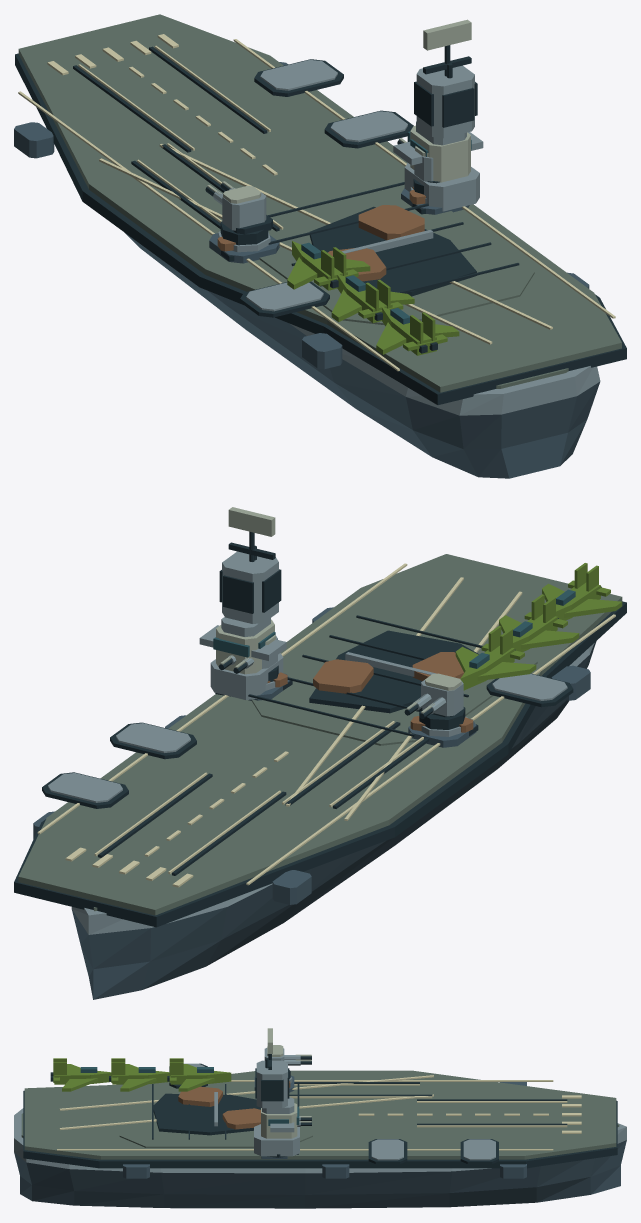
File: historic-gerald-ford.glb
3 renders of one model, top to bottom at view 1: azimuth 30°, elevation 25°; view 2: azimuth 150°, elevation 25°; view 3: azimuth 270°, elevation 25°, orthographic. The views are drawn at different scales.
Visible parts, largest first — view 1: historic-gerald-ford-historic-gerald-ford-geometry, historic-gerald-ford-part_flight-deck.023-geometry, historic-gerald-ford-part_bridge.081-geometry, historic-gerald-ford-ruin_flight-deck.022-geometry, historic-gerald-ford-turret_aa_aa-port.085-geometry, historic-gerald-ford-parked_aircraft_0.023-geometry, historic-gerald-ford-parked_aircraft_2.023-geometry, historic-gerald-ford-parked_aircraft_1.023-geometry, historic-gerald-ford-aircraft_lift_0.023-geometry, historic-gerald-ford-aircraft_lift_1.023-geometry, historic-gerald-ford-aircraft_lift_2.018-geometry, historic-gerald-ford-part_aa-port.085-geometry (+1 smaller); view 2: historic-gerald-ford-historic-gerald-ford-geometry, historic-gerald-ford-part_flight-deck.023-geometry, historic-gerald-ford-part_bridge.081-geometry, historic-gerald-ford-ruin_flight-deck.022-geometry, historic-gerald-ford-parked_aircraft_2.023-geometry, historic-gerald-ford-turret_aa_aa-port.085-geometry, historic-gerald-ford-parked_aircraft_0.023-geometry, historic-gerald-ford-parked_aircraft_1.023-geometry, historic-gerald-ford-aircraft_lift_1.023-geometry, historic-gerald-ford-aircraft_lift_0.023-geometry, historic-gerald-ford-aircraft_lift_2.018-geometry, historic-gerald-ford-part_aa-port.085-geometry; view 3: historic-gerald-ford-historic-gerald-ford-geometry, historic-gerald-ford-part_flight-deck.023-geometry, historic-gerald-ford-ruin_flight-deck.022-geometry, historic-gerald-ford-part_bridge.081-geometry, historic-gerald-ford-parked_aircraft_2.023-geometry, historic-gerald-ford-parked_aircraft_0.023-geometry, historic-gerald-ford-parked_aircraft_1.023-geometry, historic-gerald-ford-aircraft_lift_1.023-geometry, historic-gerald-ford-aircraft_lift_0.023-geometry, historic-gerald-ford-turret_aa_aa-port.085-geometry.
Boxes of the visible parts, left/top/right/bottom form: historic-gerald-ford-historic-gerald-ford-geometry: left=14, top=14, right=626, bottom=478; historic-gerald-ford-part_flight-deck.023-geometry: left=259, top=182, right=534, bottom=325; historic-gerald-ford-part_bridge.081-geometry: left=393, top=19, right=483, bottom=211; historic-gerald-ford-ruin_flight-deck.022-geometry: left=309, top=205, right=476, bottom=296; historic-gerald-ford-turret_aa_aa-port.085-geometry: left=205, top=181, right=272, bottom=245; historic-gerald-ford-parked_aircraft_0.023-geometry: left=376, top=306, right=459, bottom=355; historic-gerald-ford-parked_aircraft_2.023-geometry: left=287, top=241, right=370, bottom=290; historic-gerald-ford-parked_aircraft_1.023-geometry: left=331, top=274, right=414, bottom=323; historic-gerald-ford-aircraft_lift_0.023-geometry: left=254, top=59, right=343, bottom=96; historic-gerald-ford-aircraft_lift_1.023-geometry: left=324, top=110, right=413, bottom=148; historic-gerald-ford-aircraft_lift_2.018-geometry: left=240, top=281, right=329, bottom=317; historic-gerald-ford-part_aa-port.085-geometry: left=209, top=231, right=279, bottom=263; historic-gerald-ford-historic-gerald-ford-geometry: left=14, top=554, right=626, bottom=999; historic-gerald-ford-part_flight-deck.023-geometry: left=248, top=610, right=537, bottom=745; historic-gerald-ford-part_bridge.081-geometry: left=199, top=507, right=286, bottom=699; historic-gerald-ford-ruin_flight-deck.022-geometry: left=309, top=630, right=478, bottom=713; historic-gerald-ford-parked_aircraft_2.023-geometry: left=455, top=626, right=536, bottom=690; historic-gerald-ford-turret_aa_aa-port.085-geometry: left=404, top=673, right=465, bottom=729; historic-gerald-ford-parked_aircraft_0.023-geometry: left=542, top=563, right=622, bottom=620; historic-gerald-ford-parked_aircraft_1.023-geometry: left=499, top=594, right=579, bottom=651; historic-gerald-ford-aircraft_lift_1.023-geometry: left=110, top=722, right=196, bottom=759; historic-gerald-ford-aircraft_lift_0.023-geometry: left=42, top=772, right=128, bottom=808; historic-gerald-ford-aircraft_lift_2.018-geometry: left=486, top=673, right=573, bottom=707; historic-gerald-ford-part_aa-port.085-geometry: left=408, top=716, right=476, bottom=747; historic-gerald-ford-historic-gerald-ford-geometry: left=14, top=1070, right=626, bottom=1208; historic-gerald-ford-part_flight-deck.023-geometry: left=119, top=1084, right=312, bottom=1147; historic-gerald-ford-ruin_flight-deck.022-geometry: left=153, top=1086, right=260, bottom=1135; historic-gerald-ford-part_bridge.081-geometry: left=254, top=1028, right=299, bottom=1156; historic-gerald-ford-parked_aircraft_2.023-geometry: left=167, top=1058, right=231, bottom=1091; historic-gerald-ford-parked_aircraft_0.023-geometry: left=50, top=1058, right=111, bottom=1091; historic-gerald-ford-parked_aircraft_1.023-geometry: left=109, top=1058, right=169, bottom=1091; historic-gerald-ford-aircraft_lift_1.023-geometry: left=368, top=1139, right=407, bottom=1163; historic-gerald-ford-aircraft_lift_0.023-geometry: left=460, top=1139, right=498, bottom=1163; historic-gerald-ford-turret_aa_aa-port.085-geometry: left=264, top=1045, right=311, bottom=1078.
Size of the model in its own units: 2.23 by 1.95 by 5.89.
